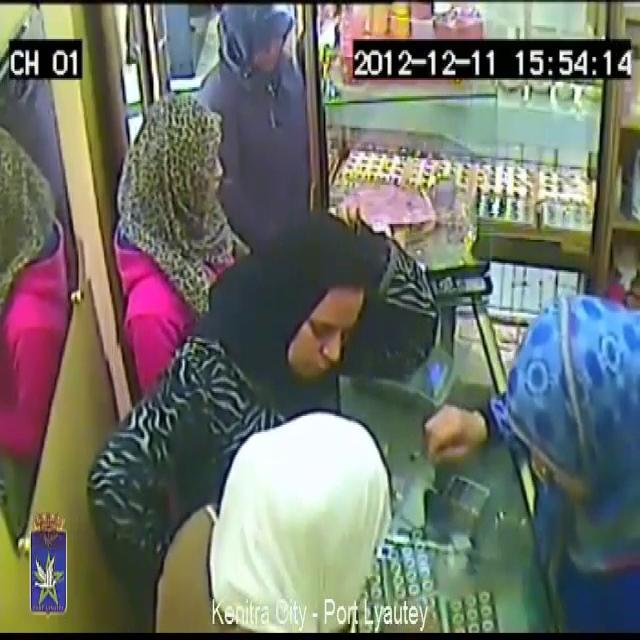normal: (475, 234, 640, 640), (165, 433, 406, 640), (122, 78, 234, 343), (257, 218, 388, 436), (223, 0, 323, 188)
